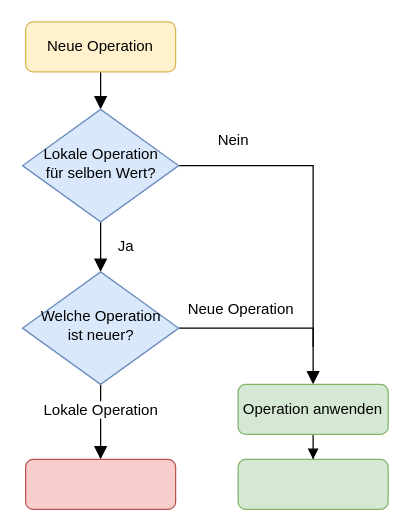
The diagram is 410 pixels wide and 531 high, and some of its shapes have lost their labels. The centre of each missing label's shape, as x and y in pixels:
"Operation nicht anwenden" goes at point 100,483.
"Operation speichern" goes at point 312,483.
